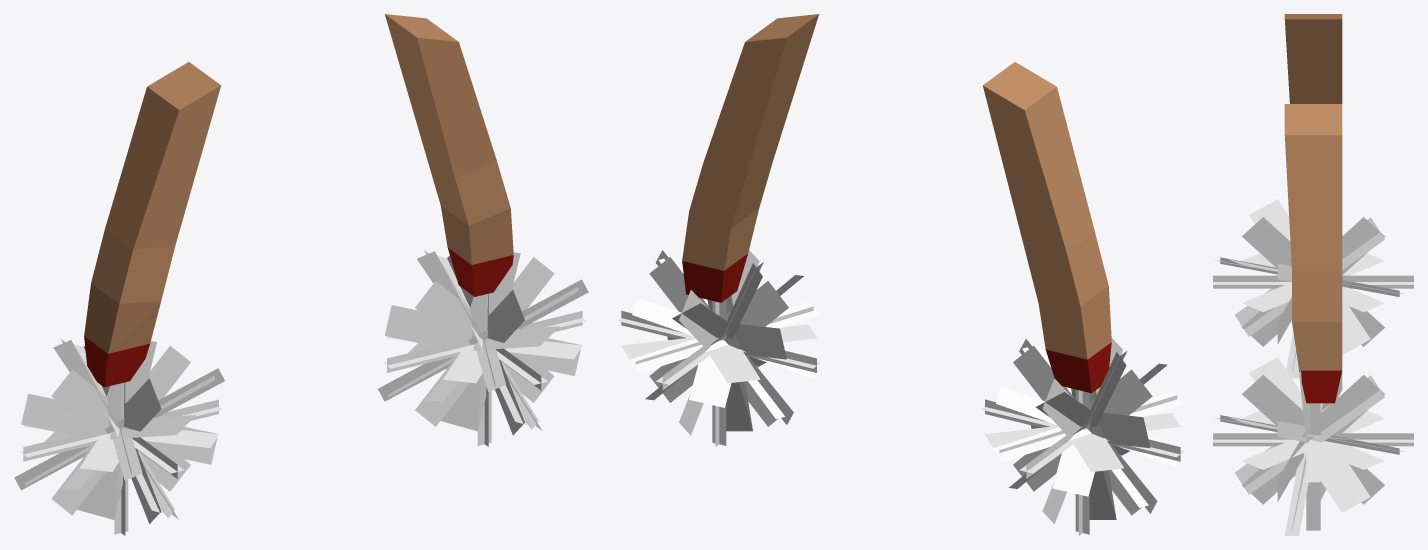
File: model_2923_npc.obj
3 views of the same model, side by side, from view 1: azimuth 30°, elevation 25°; view 2: azimuth 150°, elevation 25°; view 3: azimuth 270°, elevation 25° (orthographic). The views are drawn at different scales.
Parts seen in each view (by area): view 1: 2923; view 2: 2923; view 3: 2923.
Boxes of the visible parts, <box> form: 2923: <box>14,14,588,535</box>; 2923: <box>618,14,1184,535</box>; 2923: <box>1213,14,1413,535</box>.
Bounding box in the file's own units: 80 × 60 × 28.
